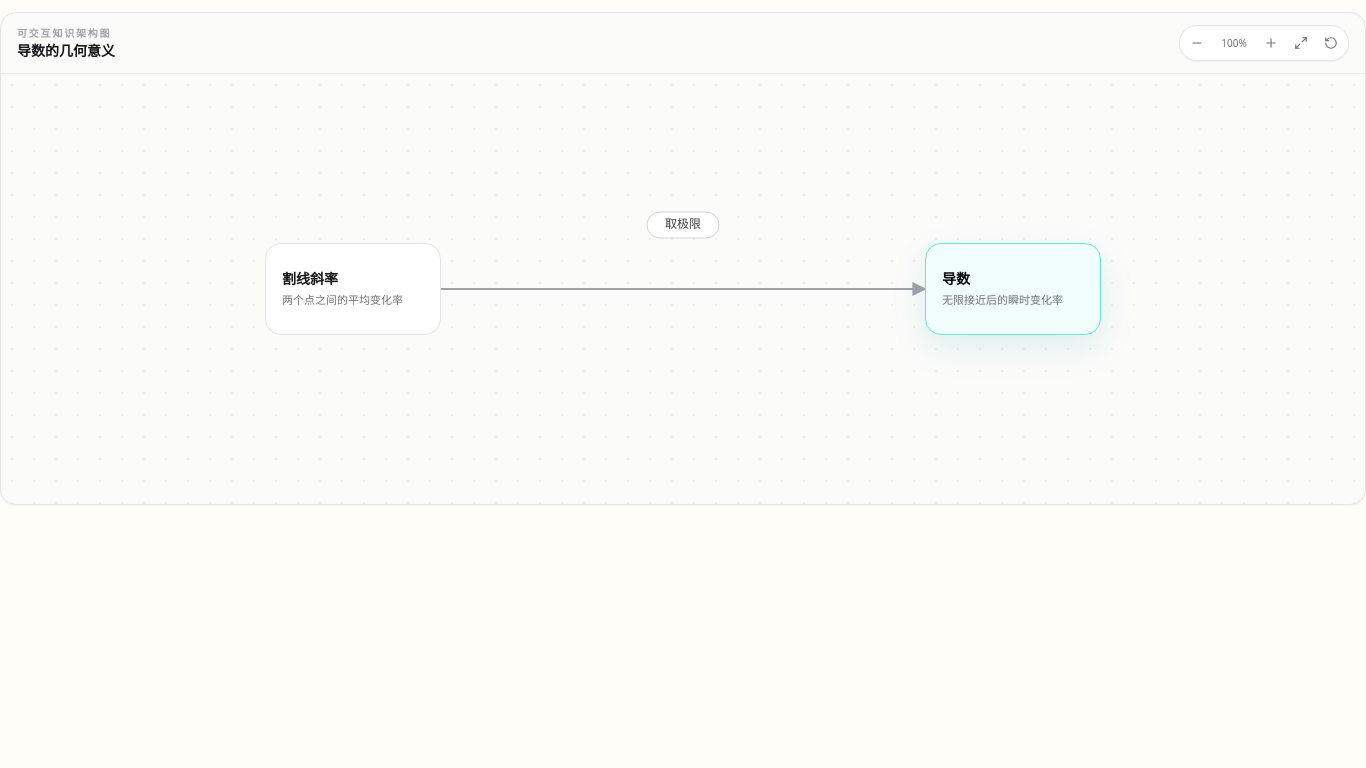
Scenario: TeachingDiagram › opens the selected knowledge point details without injecting markup
Click the button with aria-label "导数：无限接近后的瞬时变化率" at (1013,289), box [925, 243, 1101, 335]
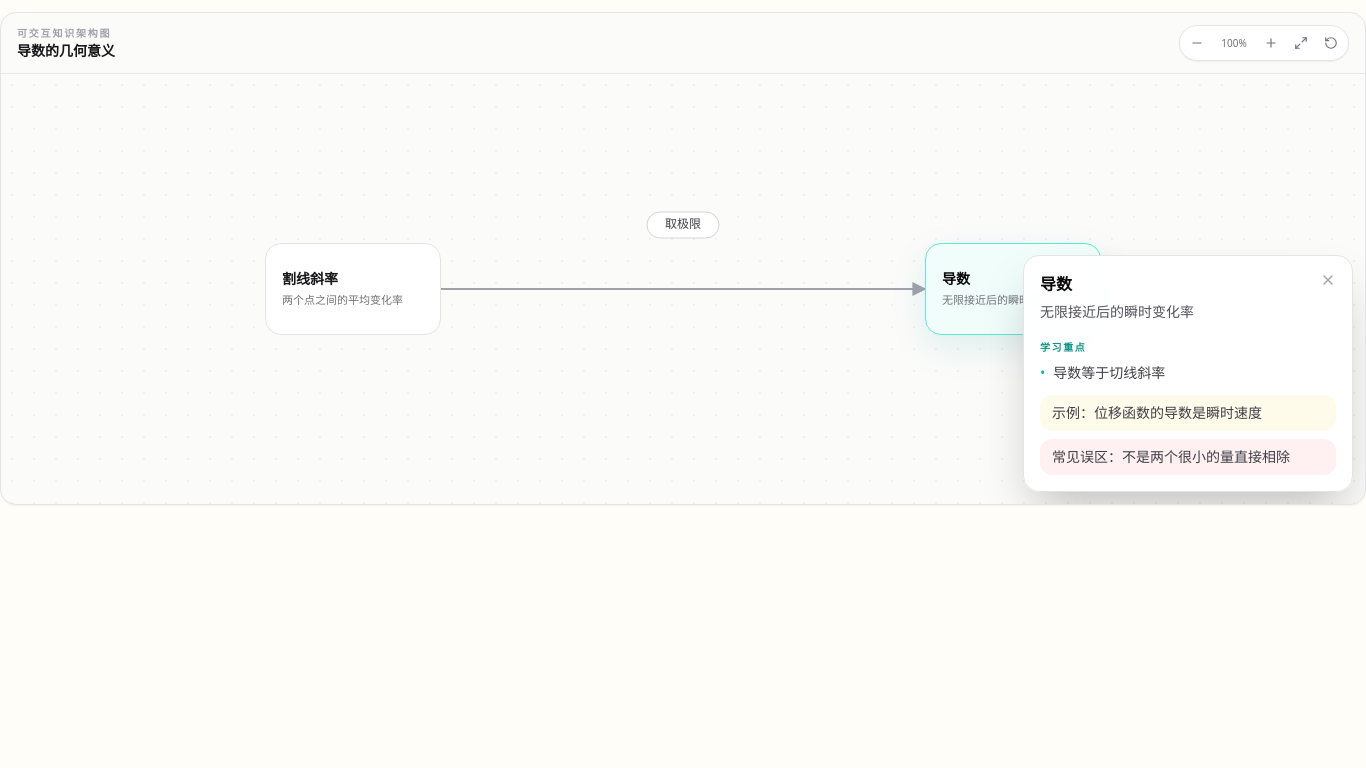
Result: the dialog "导数" is shown at [1023, 255, 1353, 492]
Result: the text "导数等于切线斜率" is shown at [1053, 363, 1165, 383]
Result: the text "位移函数的导数是瞬时速度" is shown at [1094, 403, 1262, 422]
